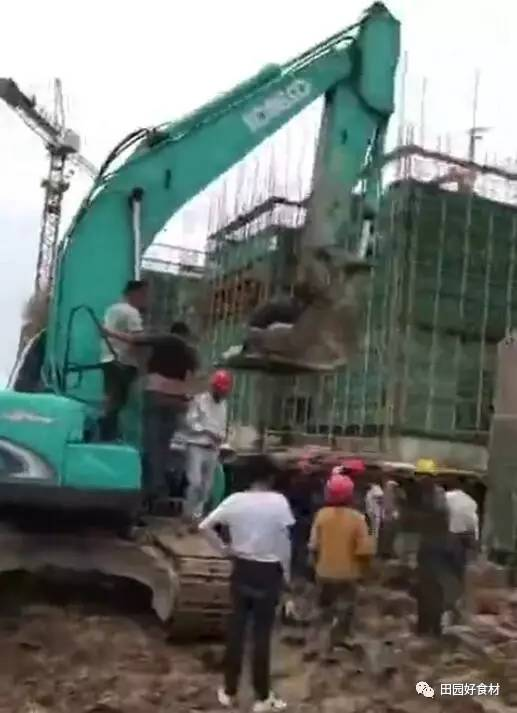excavator: (1, 7, 415, 659)
